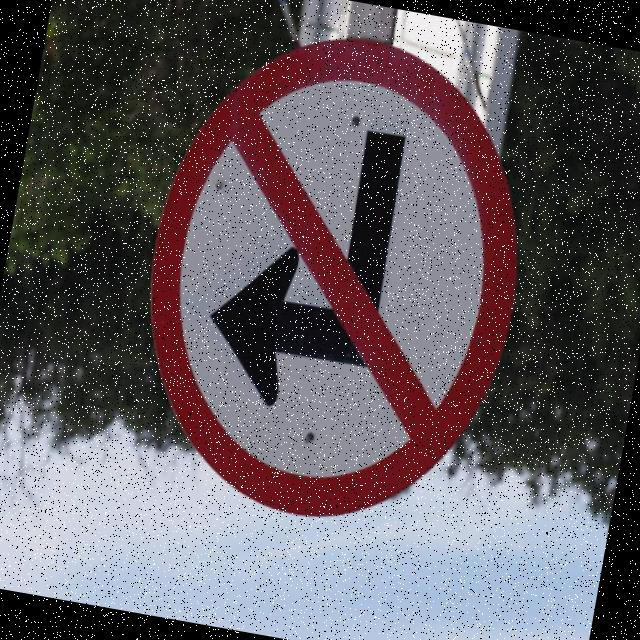do_not_turn_right: (108, 10, 558, 556)
